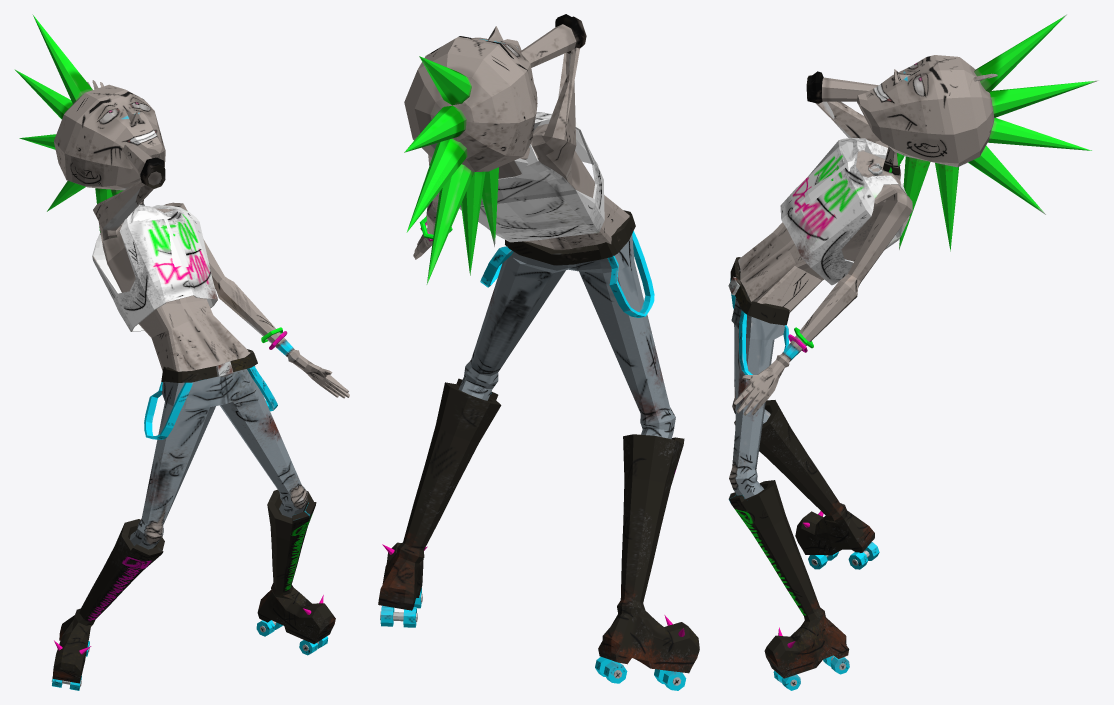
The model's file is punkAnimation_000086.obj.
3 views of the same model, side by side, from view 1: azimuth 30°, elevation 25°; view 2: azimuth 150°, elevation 25°; view 3: azimuth 270°, elevation 25° (orthographic). The views are drawn at different scales.
Visible parts, largest first — view 1: Cube.004_Cube.003; view 2: Cube.004_Cube.003; view 3: Cube.004_Cube.003.
Boxes of the visible parts, left/top/right/bottom form: Cube.004_Cube.003: left=14, top=14, right=349, bottom=690; Cube.004_Cube.003: left=378, top=14, right=699, bottom=690; Cube.004_Cube.003: left=728, top=14, right=1098, bottom=690.
Size of the model in its own units: 2.93 by 6.06 by 3.42.
